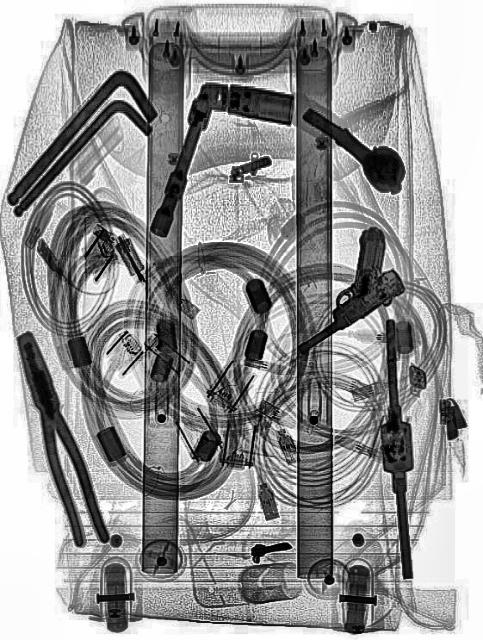Gun: (272, 220, 406, 356)
Pliers: (9, 322, 107, 552)
